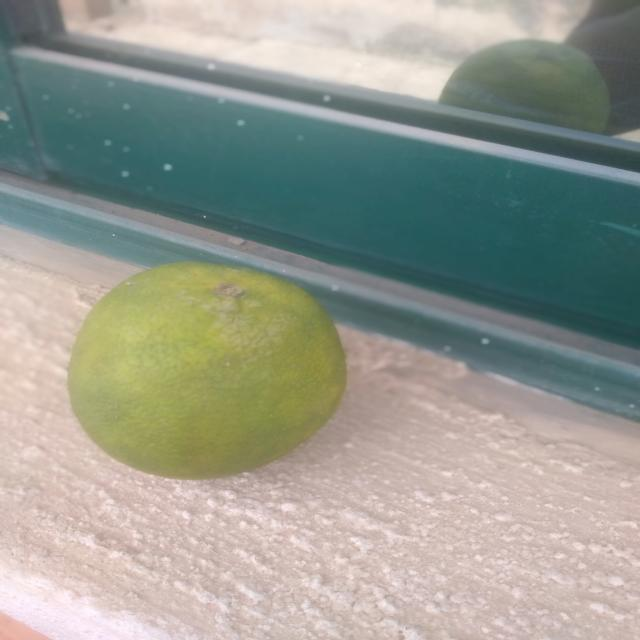Ripe orange: (70, 253, 356, 506)
